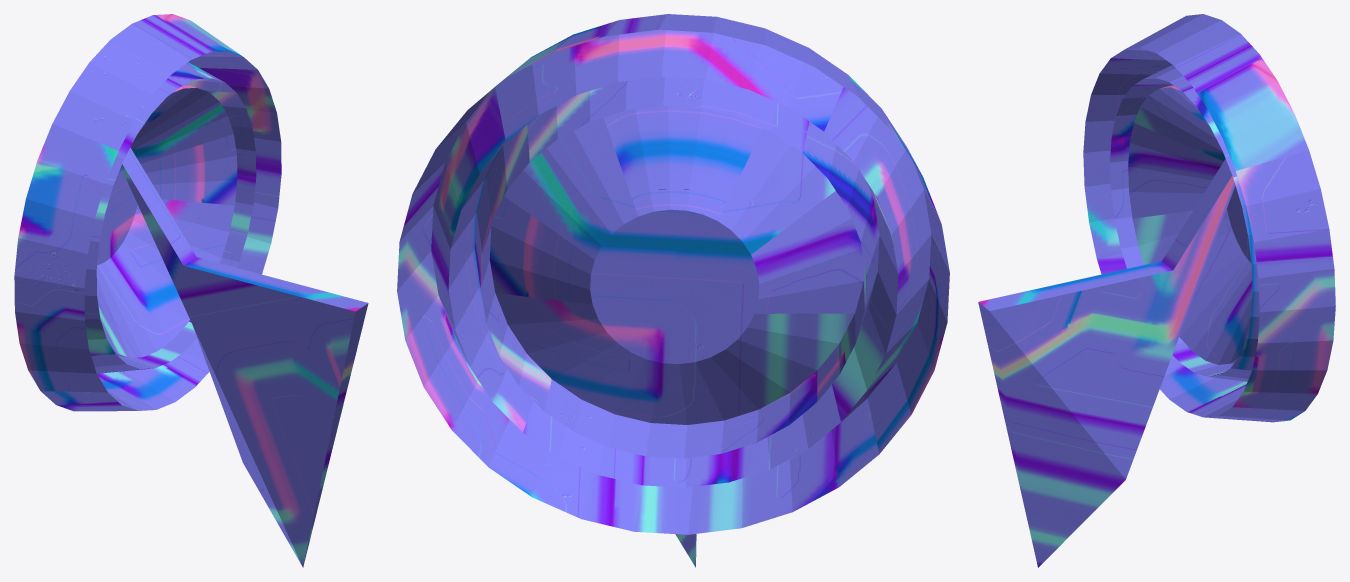
Rendered from radar5.obj.
The picture shows the model from 3 angles, left to right: view 1: azimuth 30°, elevation 25°; view 2: azimuth 150°, elevation 25°; view 3: azimuth 270°, elevation 25°; orthographic projection. The views are drawn at different scales.
Visible parts, largest first — view 1: radar; view 2: radar; view 3: radar.
Boxes of the visible parts, x1,y1,x2,y2 form: radar: [14, 14, 368, 567]; radar: [397, 14, 949, 567]; radar: [978, 14, 1335, 567].
Size of the model in its own units: 0.9068 by 1.3 by 0.8461.
